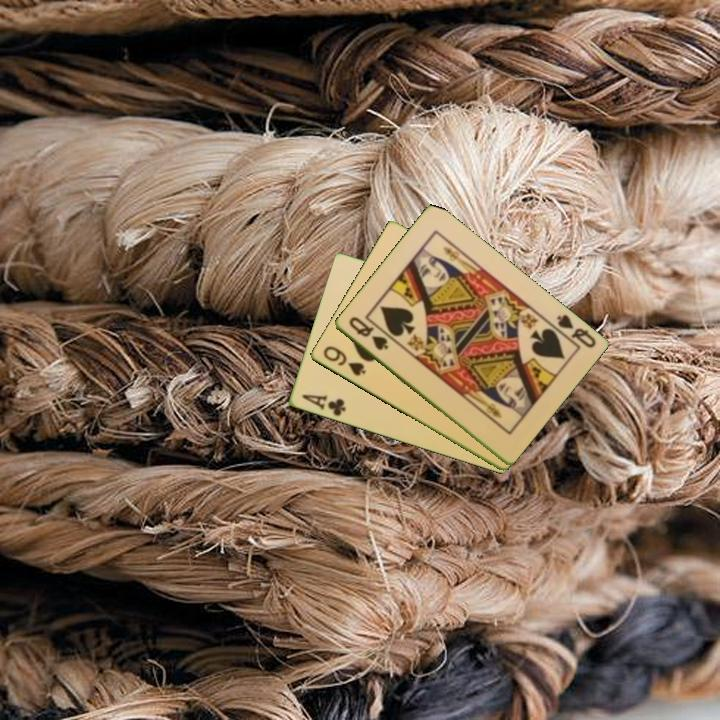9s: (319, 342, 369, 379)
Ac: (298, 391, 348, 419)
Qs: (552, 311, 599, 351), (345, 313, 391, 353)
